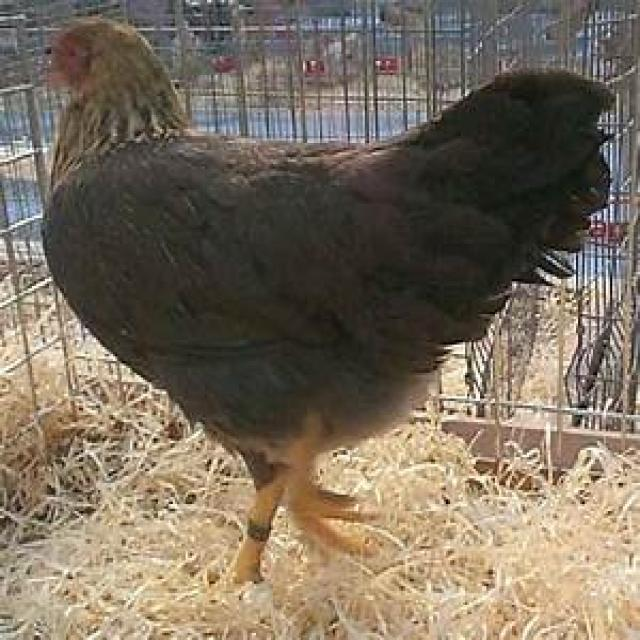hen: (41, 19, 617, 591)
